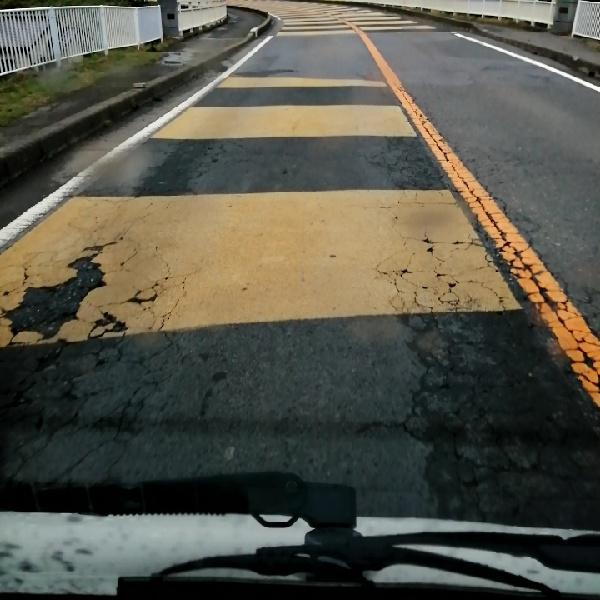D20: (366, 134, 595, 518), (0, 189, 200, 471)
